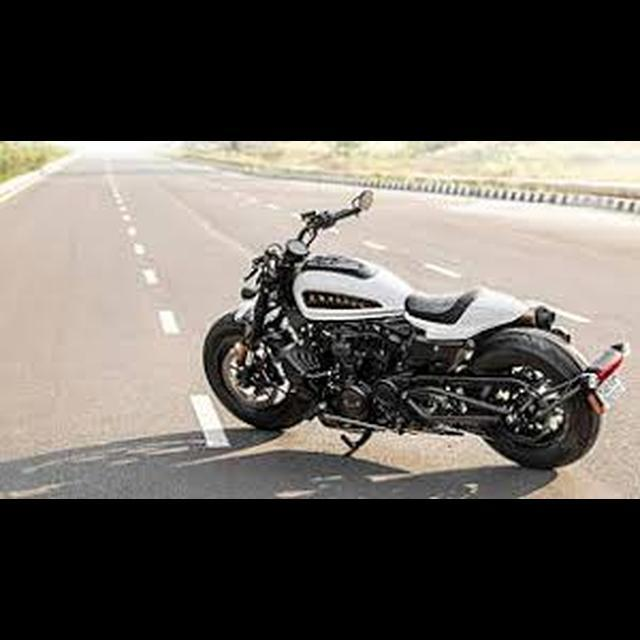motorcycle: (203, 185, 634, 478)
